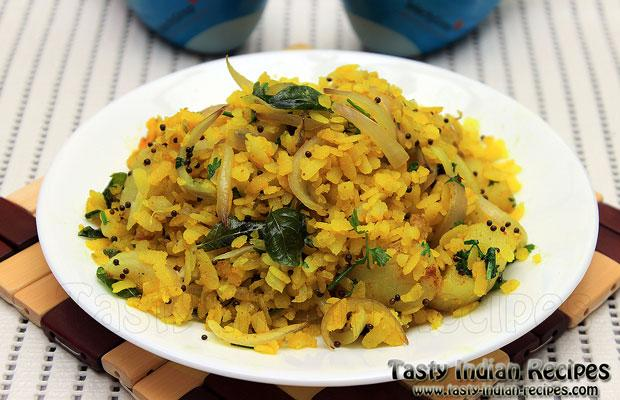poha: (108, 58, 550, 336)
